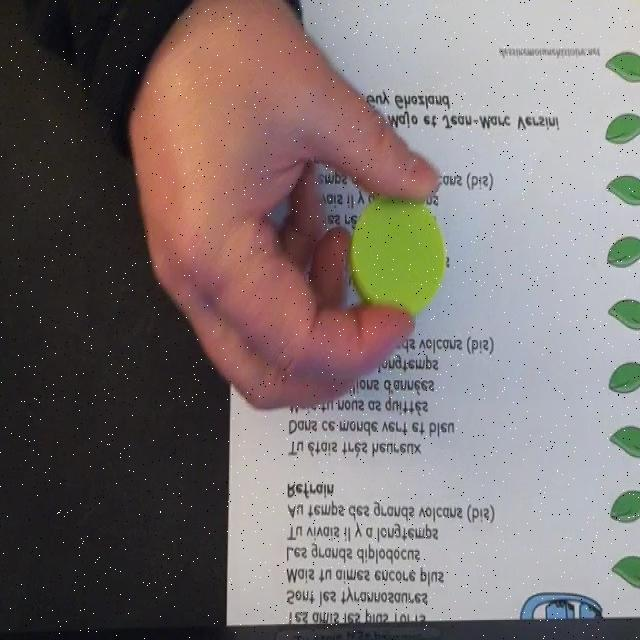round: (348, 192, 446, 318)
